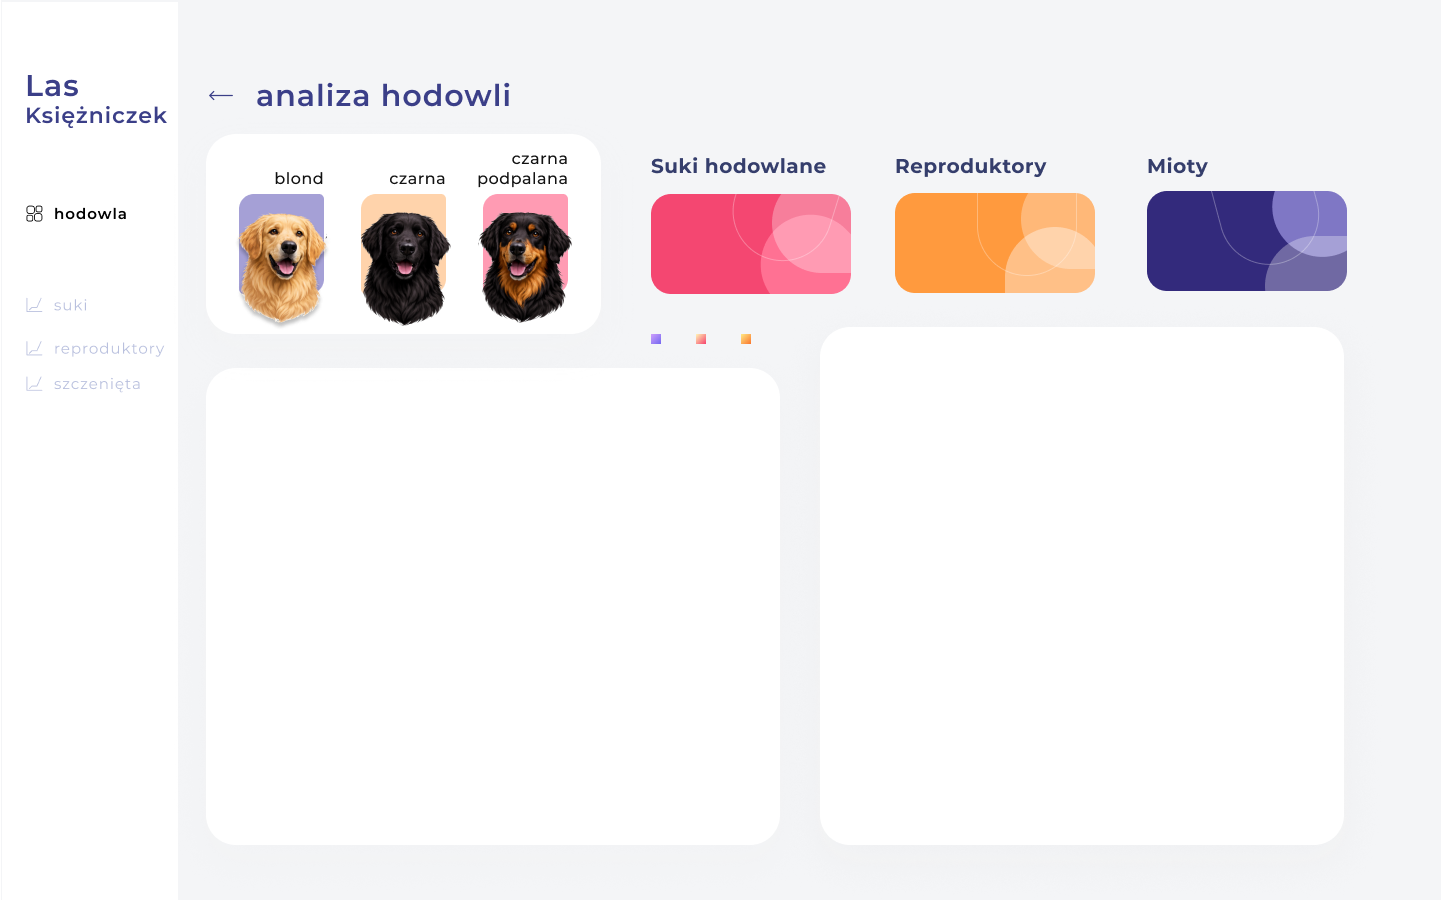

What the dashboard file says about the page in this screenshot:
{"tool":"tableau","page":{"name":"FINAL_LK_P2","canvas":[1440,900],"ordinal":0},"visuals":[{"type":"image","param":"/Users/martamucha-balcerek/Desktop/analityk danych/hovawart-lk-analysis/work-on-","box":[0,0,1440,900]},{"type":"worksheet","title":"kpi all litters (white)","mark":"Automatic","box":[1159,192,106,96]},{"type":"worksheet","title":"kpi all male dogs","mark":"Automatic","box":[905,195,99,94]},{"type":"worksheet","title":"kpi all female dogs (white)","mark":"Automatic","box":[665,196,99,98]},{"type":"worksheet","title":"male dogs","mark":"Automatic","rows":["name_male_dog (copy)_0233083807866881","breeding_nickname_male_dog (copy)_0233083807682560"],"box":[829,341,503,491]},{"type":"worksheet","title":"female dogs","mark":"Automatic","rows":["name_female_dog (copy)_6826030063579137","breeding_nickname_female_dog (copy)_6826030063747074","color_female_dog (copy)_6826030064697348","birth_date_female_dog (copy)_6826030064320515"],"box":[228,384,526,438]},{"type":"legend","title":"female dogs","param":"[federated.157p3a41l7sm4x1g3uyqn0fsmavm].[none:color_female_dog (copy)_682603006","box":[18,536,140,78]},{"type":"legend","title":"male dogs","param":"[federated.157p3a41l7sm4x1g3uyqn0fsmavm].[none:color_male_dog (copy)_02330838079","box":[21,630,140,58]}]}

Visuals, with their boxes on the page's 1440x900 design canvas (x1, y1, x2, y2). These are canvas units, not pixel positions in the 1441x910 screenshot, which may show the page scaled, cropped or inside an application window:
image: Rect(0, 0, 1440, 900)
"kpi all litters (white)" worksheet: Rect(1159, 192, 1265, 288)
"kpi all male dogs" worksheet: Rect(905, 195, 1004, 289)
"kpi all female dogs (white)" worksheet: Rect(665, 196, 764, 294)
"male dogs" worksheet: Rect(829, 341, 1332, 832)
"female dogs" worksheet: Rect(228, 384, 754, 822)
"female dogs" legend: Rect(18, 536, 158, 614)
"male dogs" legend: Rect(21, 630, 161, 688)
